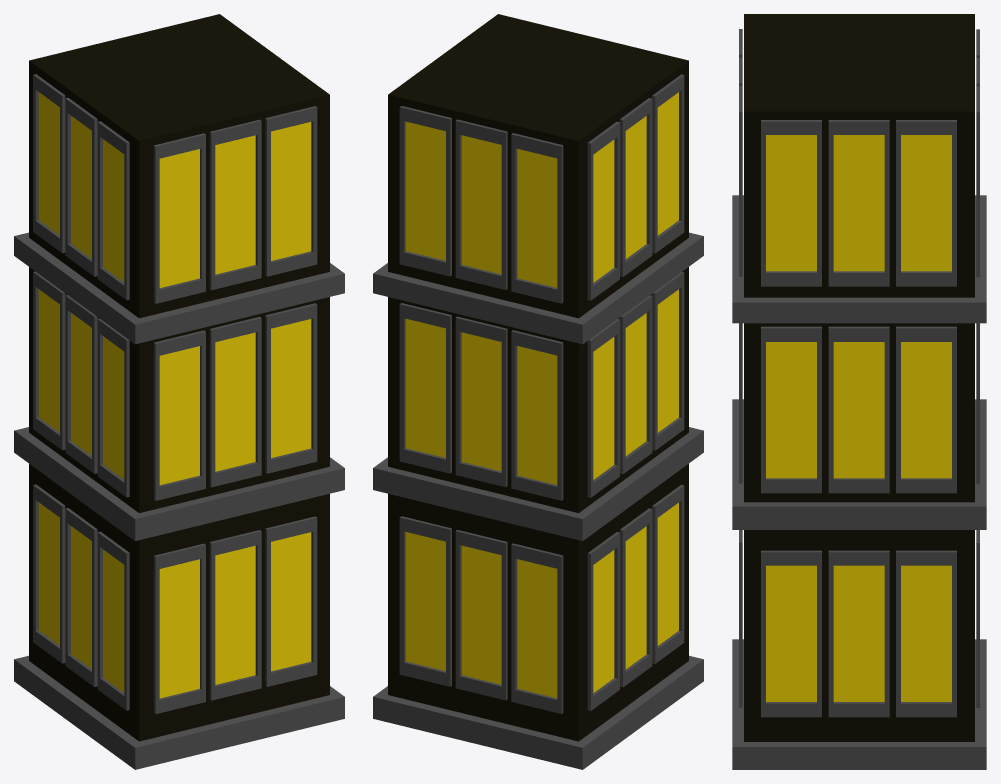
Rendered from YSkyScraper.fbx.
The picture shows the model from 3 angles, left to right: view 1: azimuth 30°, elevation 25°; view 2: azimuth 150°, elevation 25°; view 3: azimuth 270°, elevation 25°; orthographic projection. The views are drawn at different scales.
Parts seen in each view (by area): view 1: Plane.001; view 2: Plane.001; view 3: Plane.001.
Part boxes in pixels (bbox=[...]): Plane.001: bbox=[14, 14, 344, 769]; Plane.001: bbox=[373, 14, 703, 769]; Plane.001: bbox=[732, 14, 986, 769].
Bounding box in the file's own units: 7483 × 21228 × 7483.
